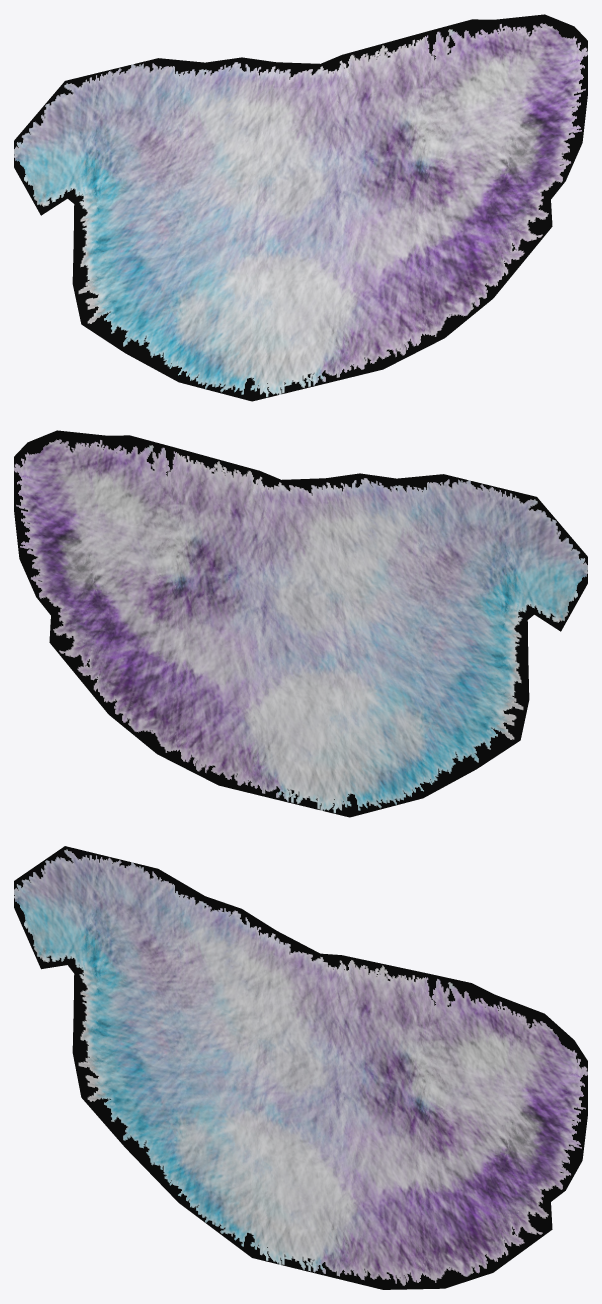
The picture shows the model from 3 angles, top to bottom: view 1: azimuth 30°, elevation 25°; view 2: azimuth 150°, elevation 25°; view 3: azimuth 330°, elevation 25°; orthographic projection.
Visible parts, largest first — view 1: Plane; view 2: Plane; view 3: Plane.
Part boxes in pixels (left/top/right/bottom): Plane: left=14, top=14, right=587, bottom=401; Plane: left=14, top=430, right=587, bottom=817; Plane: left=14, top=846, right=587, bottom=1289.
Bounding box in the file's own units: 3.79 × 2.31 × 0.
1 material, 1 textured.
